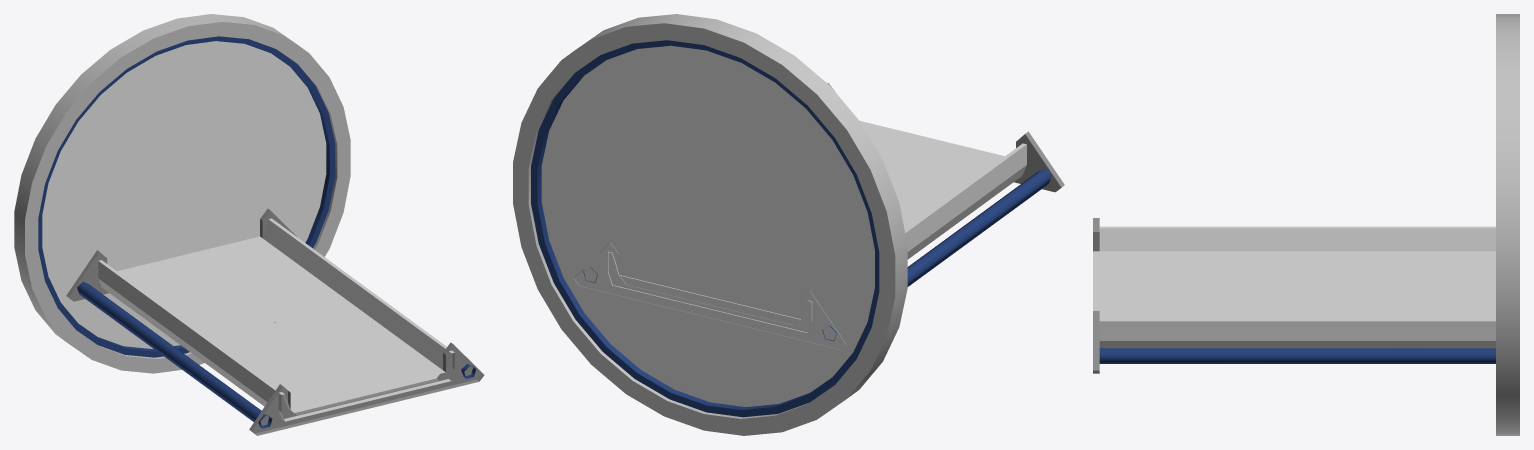
Rendered from RacetrackFinish.fbx.
3 renders of one model, left to right at view 1: azimuth 30°, elevation 25°; view 2: azimuth 150°, elevation 25°; view 3: azimuth 270°, elevation 25°, orthographic. The views are drawn at different scales.
Parts seen in each view (by area): view 1: PortalScreen, RacetrackFinish.001, Cylinder, RacetrackFinish, RacetrackFinish.002; view 2: PortalScreen, Cylinder, RacetrackFinish.001, RacetrackFinish.002, RacetrackFinish; view 3: RacetrackFinish.001, RacetrackFinish, Cylinder, RacetrackFinish.002.
Boxes of the visible parts, x1=… form: PortalScreen: x1=42, y1=41, x2=326, y2=348; RacetrackFinish.001: x1=117, y1=236, x2=445, y2=409; Cylinder: x1=14, y1=14, x2=350, y2=373; RacetrackFinish: x1=98, y1=218, x2=454, y2=421; RacetrackFinish.002: x1=66, y1=208, x2=484, y2=435; PortalScreen: x1=541, y1=45, x2=874, y2=406; Cylinder: x1=513, y1=14, x2=907, y2=435; RacetrackFinish.001: x1=619, y1=121, x2=1004, y2=319; RacetrackFinish.002: x1=573, y1=82, x2=1064, y2=349; RacetrackFinish: x1=608, y1=143, x2=1026, y2=332; RacetrackFinish.001: x1=1093, y1=251, x2=1495, y2=319; RacetrackFinish: x1=1099, y1=226, x2=1495, y2=348; Cylinder: x1=1496, y1=14, x2=1519, y2=435; RacetrackFinish.002: x1=1093, y1=218, x2=1495, y2=373.
Bounding box in the file's own units: 5047 × 5074 × 5132.
